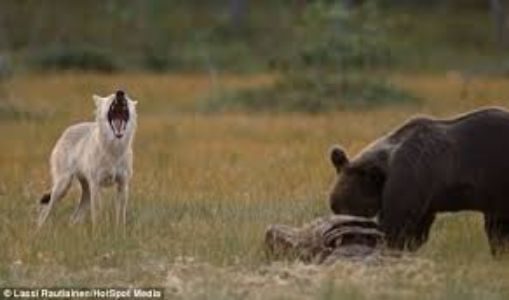bear: (327, 104, 507, 264)
wolf: (35, 86, 153, 245)
